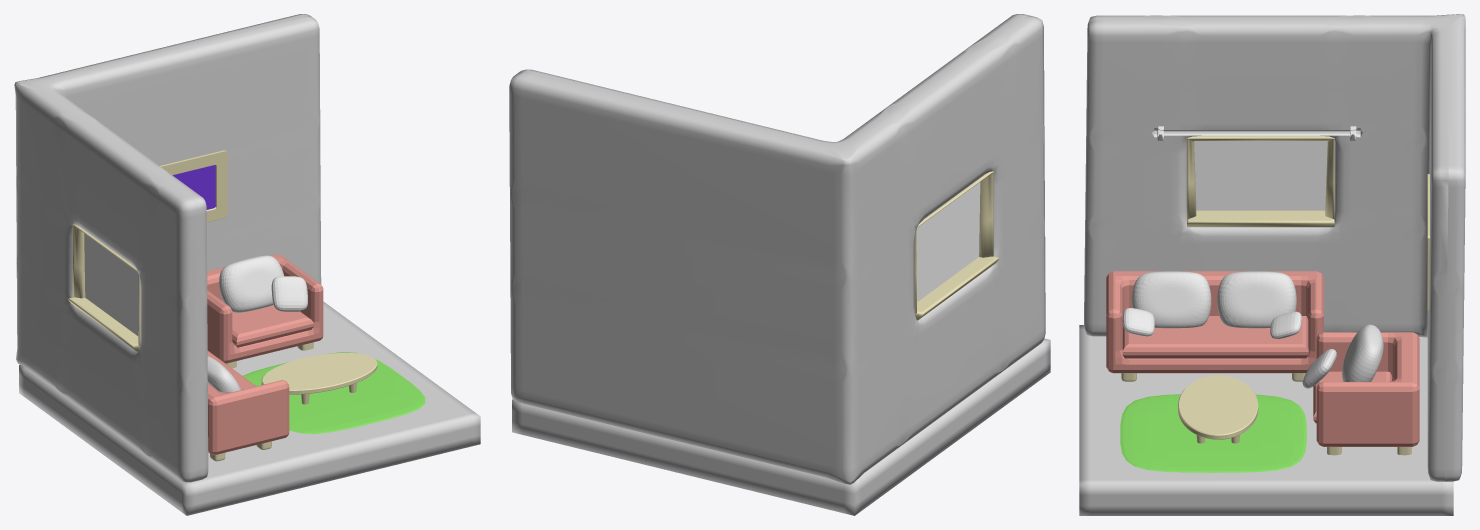
File: room.glb
3 renders of one model, left to right at view 1: azimuth 30°, elevation 25°; view 2: azimuth 150°, elevation 25°; view 3: azimuth 270°, elevation 25°, orthographic. The views are drawn at different scales.
Visible parts, largest first — view 1: walls, floor, carpet, couch, couch.002, Cube, Cube.002, back.003, pillow.001, PICTUR, FRAME, cushiion.001 (+3 smaller); view 2: walls, floor, Cube, FRAME, LEDGE; view 3: walls, floor, carpet, couch.002, Cube, couch, pillow, Cube.002, back, back.001, LEDGE, FRAME (+6 smaller).
Part boxes in pixels (bbox=[...]): walls: bbox=[14, 14, 321, 482]; floor: bbox=[19, 301, 480, 515]; carpet: bbox=[243, 352, 425, 433]; couch: bbox=[208, 380, 289, 455]; couch.002: bbox=[207, 254, 323, 363]; Cube: bbox=[84, 233, 138, 335]; Cube.002: bbox=[261, 353, 377, 404]; back.003: bbox=[219, 255, 284, 312]; pillow.001: bbox=[232, 305, 313, 347]; PICTUR: bbox=[160, 150, 227, 222]; FRAME: bbox=[72, 224, 140, 346]; cushiion.001: bbox=[271, 276, 307, 311]; walls: bbox=[509, 14, 1045, 484]; floor: bbox=[512, 338, 1050, 515]; Cube: bbox=[916, 182, 980, 301]; FRAME: bbox=[914, 171, 994, 313]; LEDGE: bbox=[915, 256, 999, 320]; walls: bbox=[1084, 14, 1465, 481]; floor: bbox=[1079, 325, 1453, 515]; carpet: bbox=[1120, 394, 1306, 472]; couch.002: bbox=[1316, 332, 1419, 446]; Cube: bbox=[1194, 141, 1327, 210]; couch: bbox=[1106, 271, 1323, 373]; pillow: bbox=[1122, 316, 1308, 358]; Cube.002: bbox=[1178, 375, 1258, 443]; back: bbox=[1217, 271, 1296, 328]; back.001: bbox=[1132, 271, 1211, 328]; LEDGE: bbox=[1187, 210, 1334, 227]; FRAME: bbox=[1187, 135, 1334, 219].
Size of the model in its own units: 3.35 by 3.31 by 3.37.
